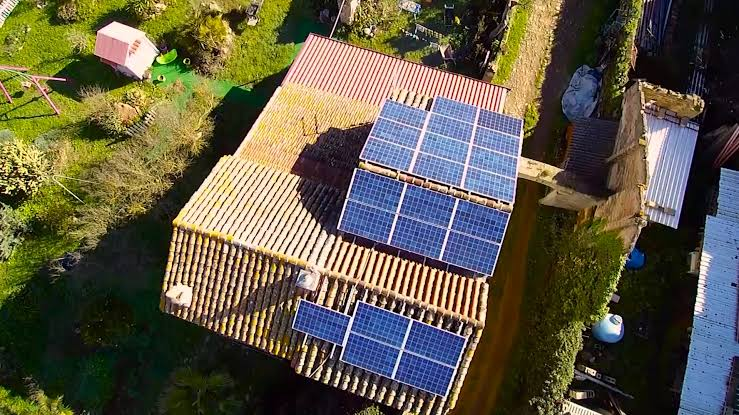Solar Panel: (352, 170, 503, 260), (366, 98, 514, 165)
